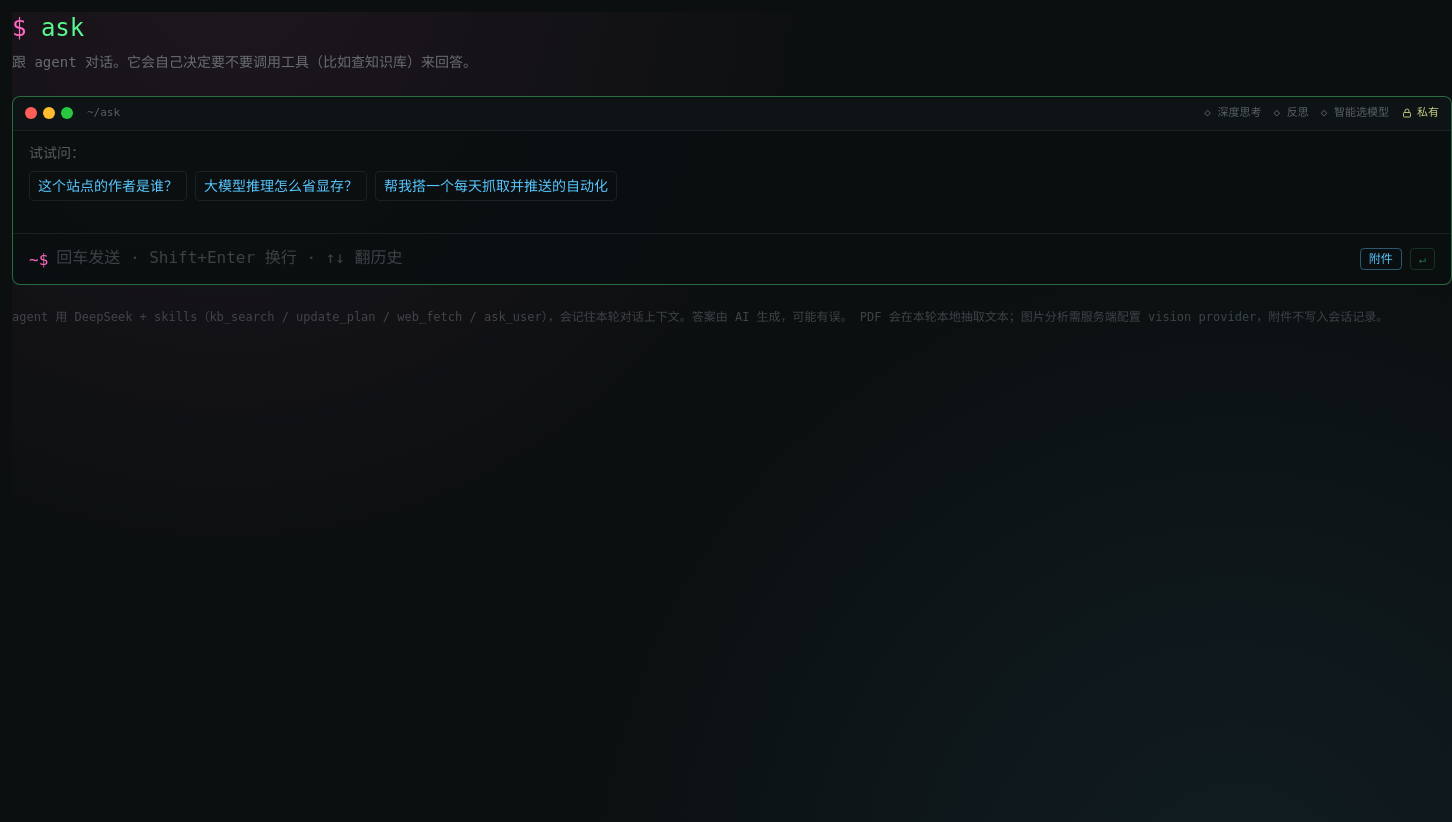
Ask private mode › 注销全部 → 打 /api/agent/revoke 带 Bearer，然后锁回公开
Click the button titled "TOTP 解锁私有模式": click(1420, 113) [1401,105,1439,122]
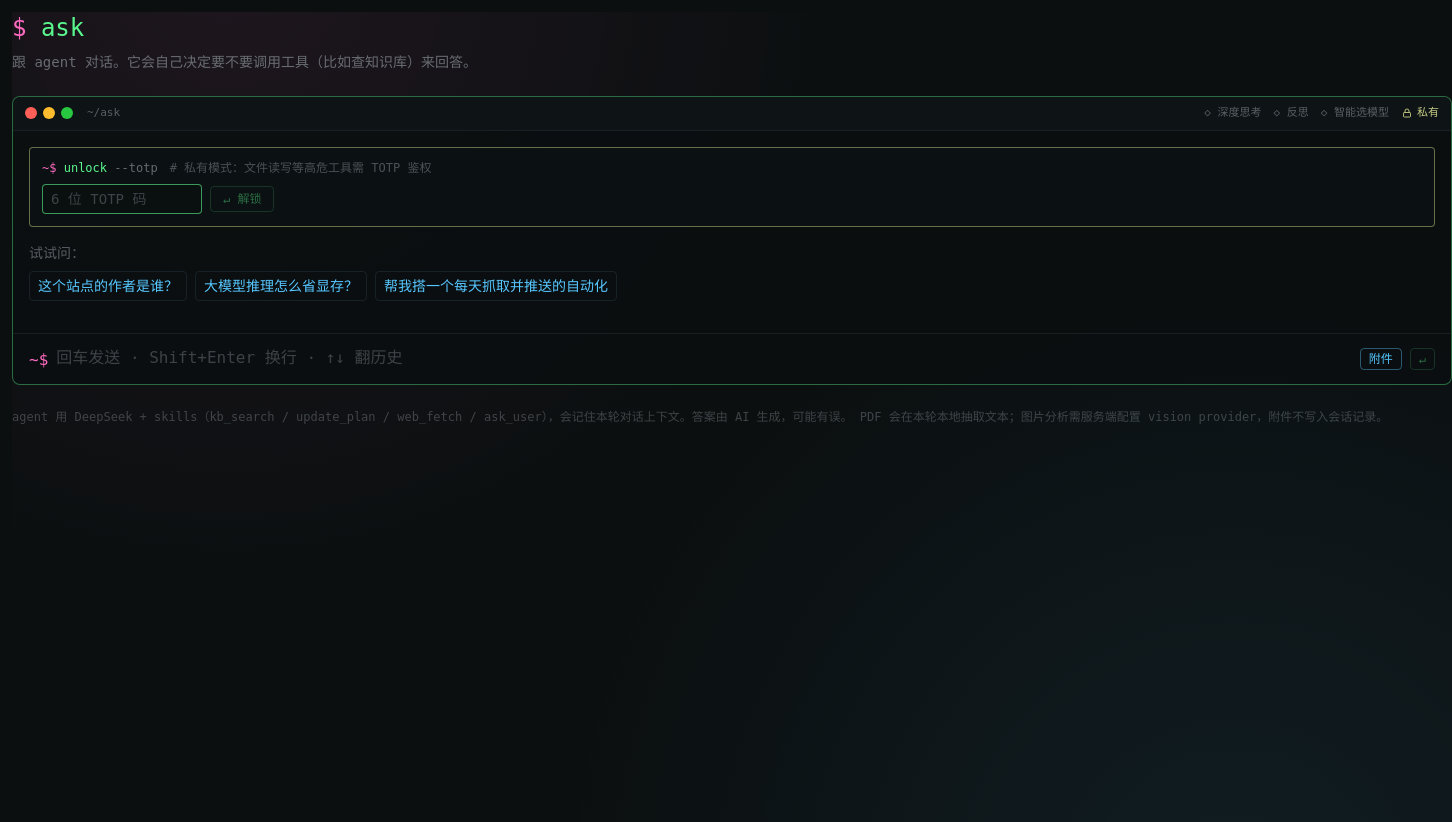
In the field with placeholder "6 位 TOTP 码": (122, 198) [42,184,202,214], type "123456"
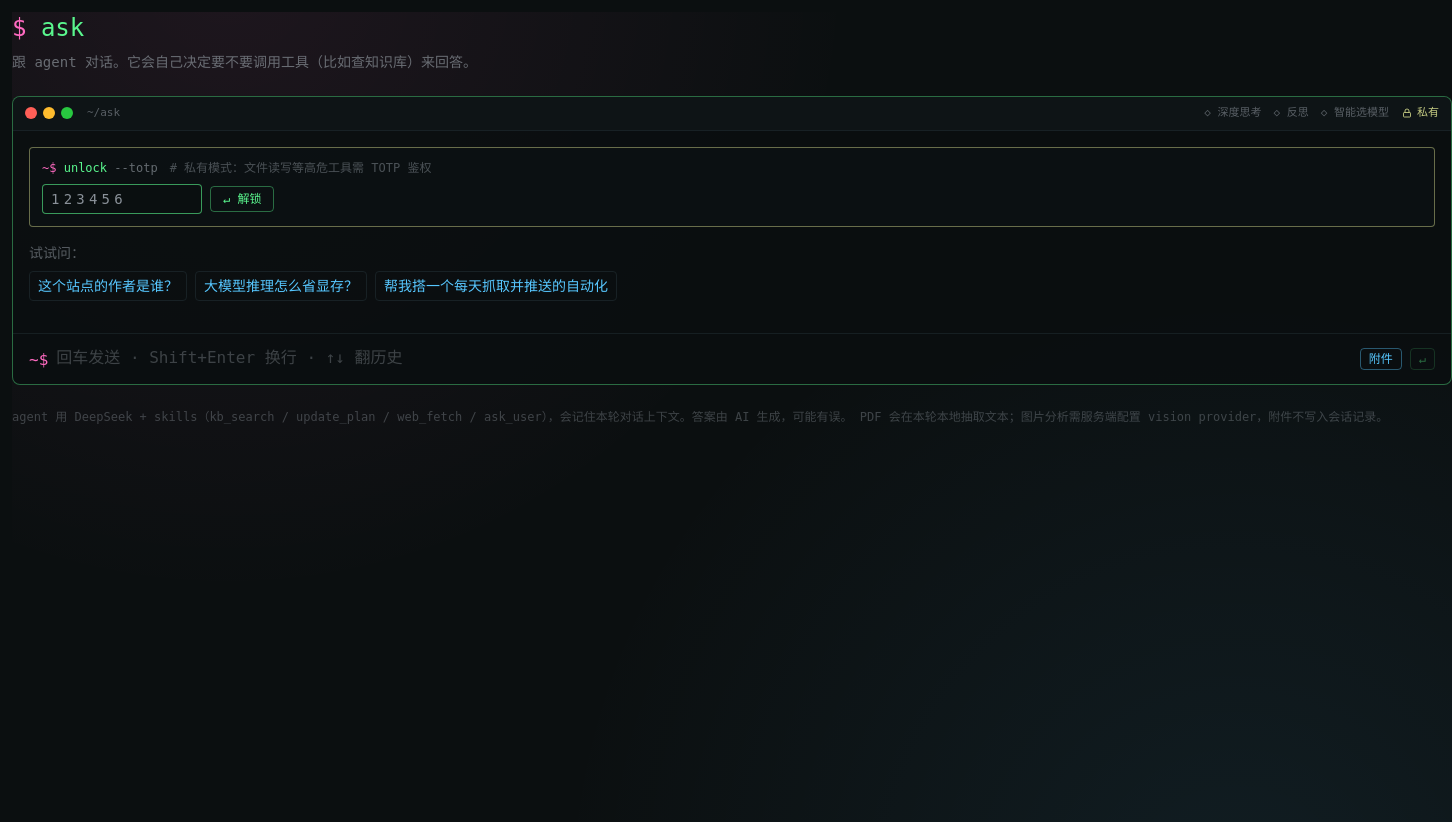
Click the button "↵ 解锁": click(242, 198) [210,186,274,212]
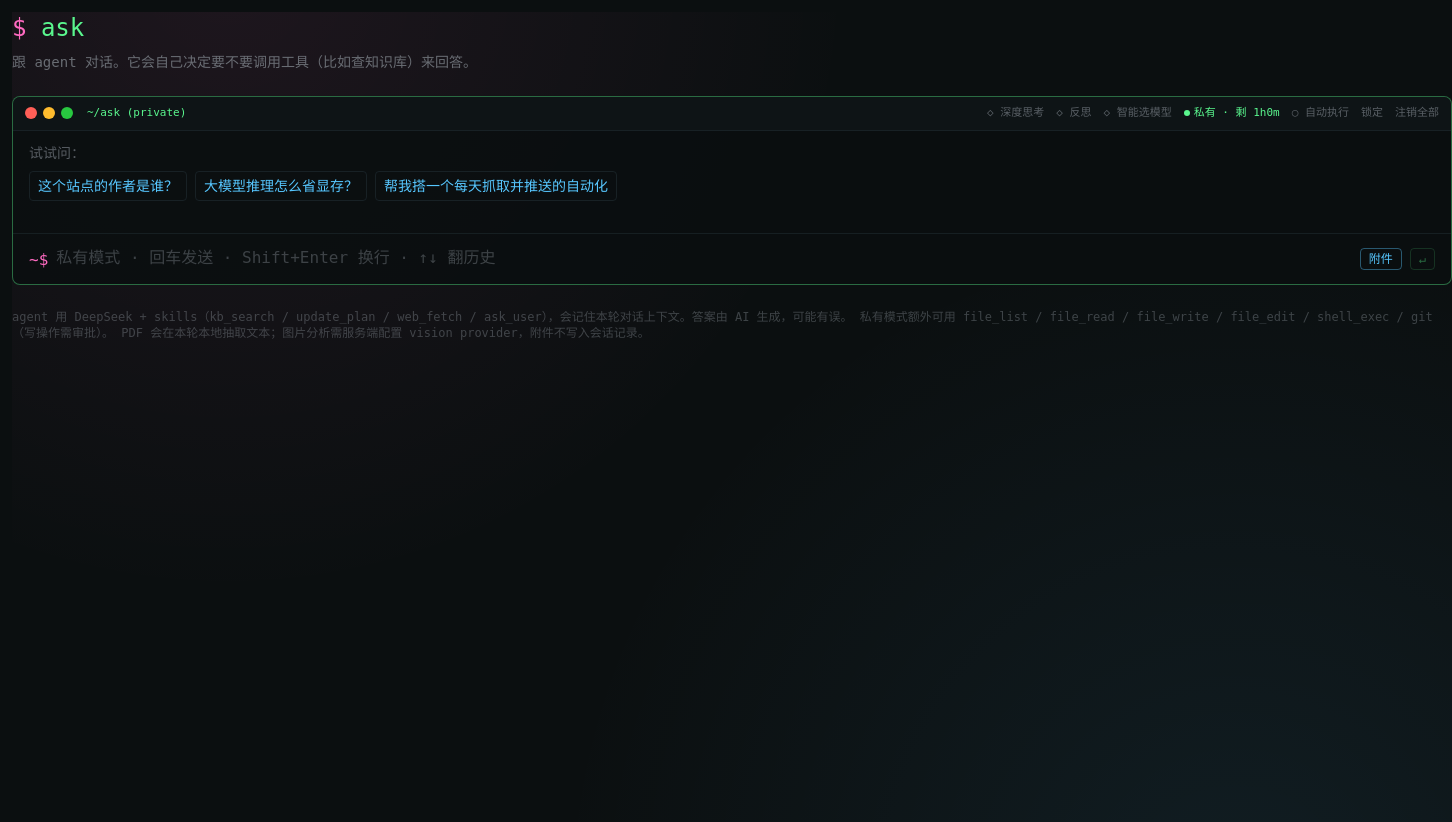
Expected: the button "注销全部" is shown
Click the button "注销全部": click(1417, 113) [1395,105,1439,122]
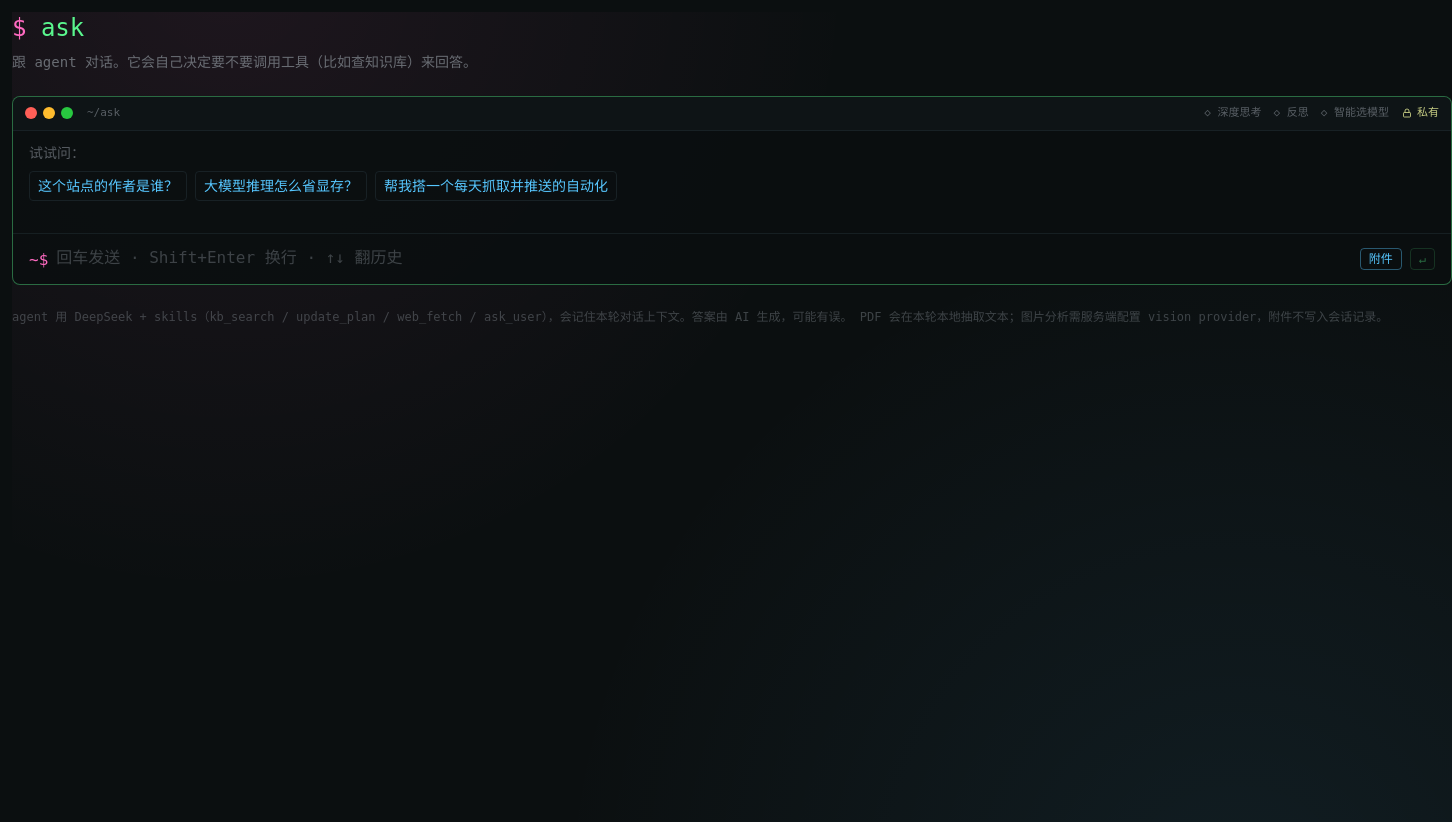
Expected: the button titled "TOTP 解锁私有模式" is shown, [1401,105,1439,122]
Expected: the text "私有 · 剩" is gone
